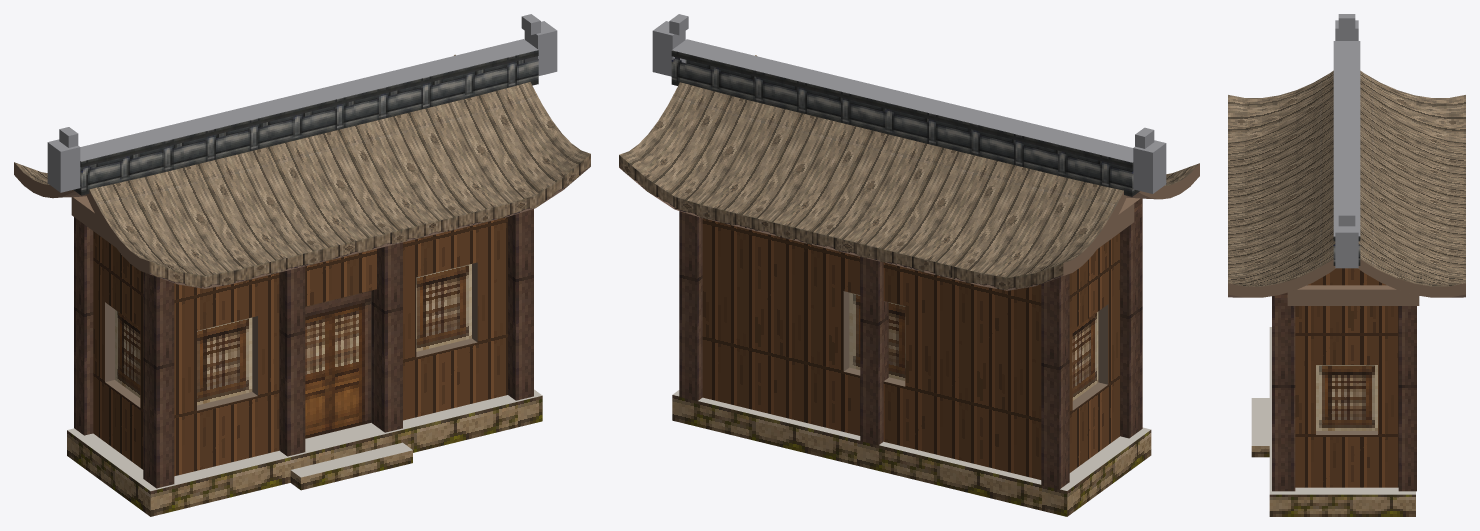
File: b_wood_o.glb
3 views of the same model, side by side, from view 1: azimuth 30°, elevation 25°; view 2: azimuth 150°, elevation 25°; view 3: azimuth 270°, elevation 25° (orthographic). The views are drawn at different scales.
Visible parts, largest first — view 1: roof, plaster, post, ridge, stone, ridgeend, win, door, stonetop, eave, reveal, wood (+1 smaller); view 2: plaster, roof, post, ridge, stone, ridgeend, eave, win, stonetop, wood, reveal, under; view 3: roof, plaster, post, ridgeend, wood, win, stone, stonetop.
Part boxes in pixels (x1,y1,x2,y2): roof: (14,54,590,275); plaster: (93,217,507,476); post: (74,209,533,488); ridge: (73,50,538,195); stone: (67,395,542,516); ridgeend: (47,14,557,192); win: (115,264,471,405); door: (305,290,371,438); stonetop: (67,389,542,491); eave: (149,154,590,287); reveal: (105,262,477,422); wood: (14,162,149,273); plaster: (702,218,1120,479); roof: (619,55,1199,277); post: (679,198,1142,489); ridge: (671,50,1139,196); stone: (672,395,1151,516); ridgeend: (652,14,1166,193); eave: (619,155,1063,289); win: (849,292,1098,400); stonetop: (672,390,1150,490); wood: (619,163,1199,275); reveal: (843,291,1108,410); under: (619,167,1158,290); roof: (1228,70,1465,286); plaster: (1295,268,1398,487); post: (1272,296,1416,491); ridgeend: (1333,14,1360,268); wood: (1228,259,1465,305); win: (1316,365,1377,430); stone: (1251,446,1415,516); stonetop: (1251,327,1415,494).
Size of the model in its own units: 60.8 by 42.38 by 28.78.
Materials: 14 (9 with a texture image).
